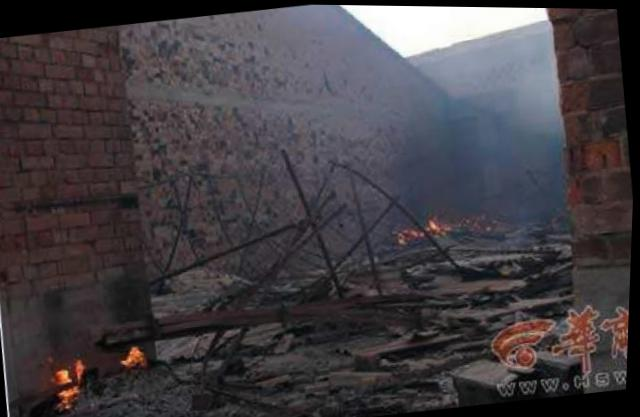fire: (122, 344, 148, 367), (57, 385, 80, 408), (55, 364, 73, 382), (425, 214, 440, 231), (75, 357, 87, 378)
